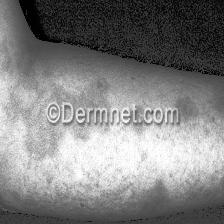Benign Marking or Mole: (0, 76, 51, 158), (179, 89, 224, 126), (144, 170, 180, 209)
